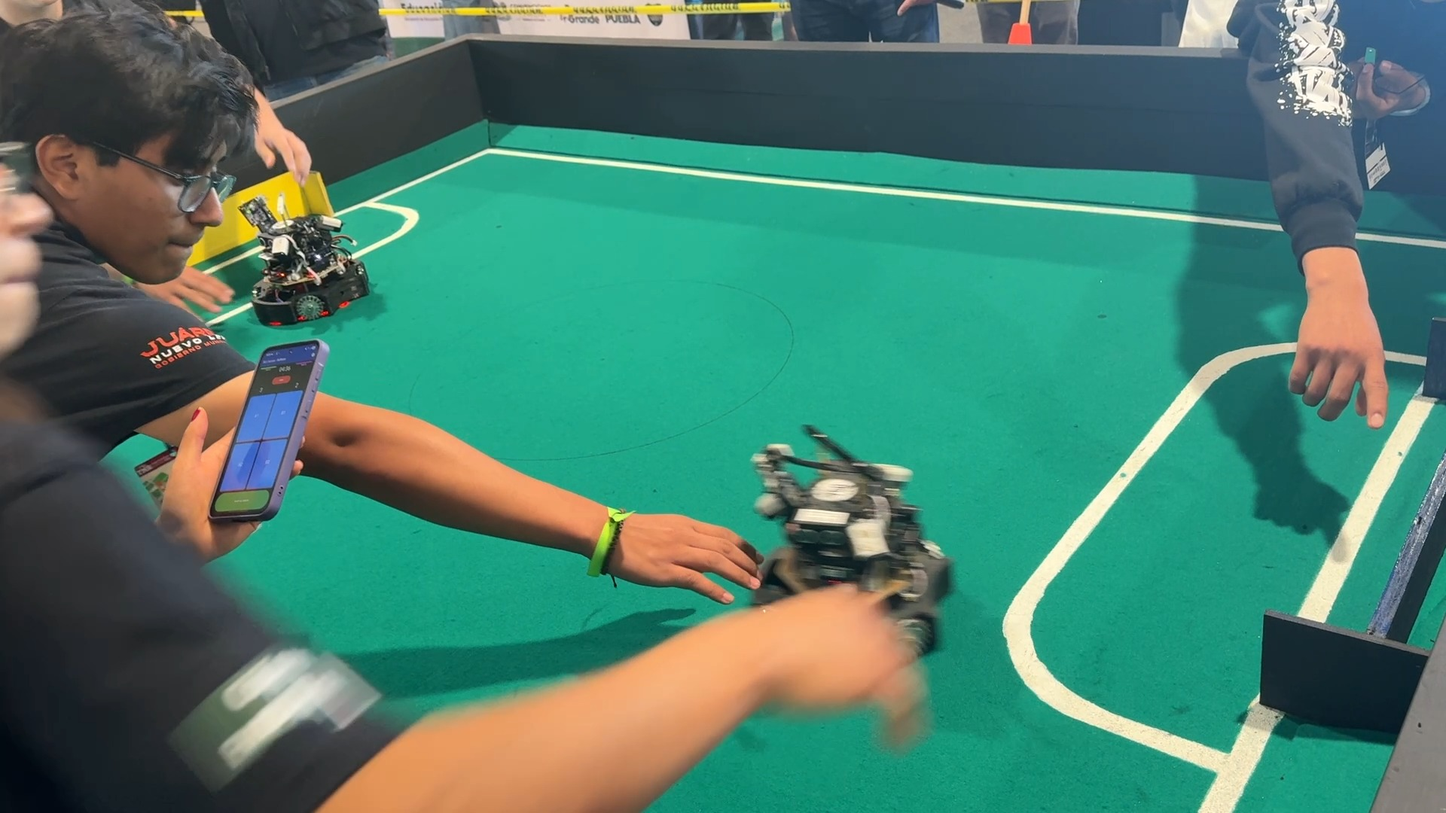Robot: (731, 417, 953, 632), (231, 188, 382, 340)
